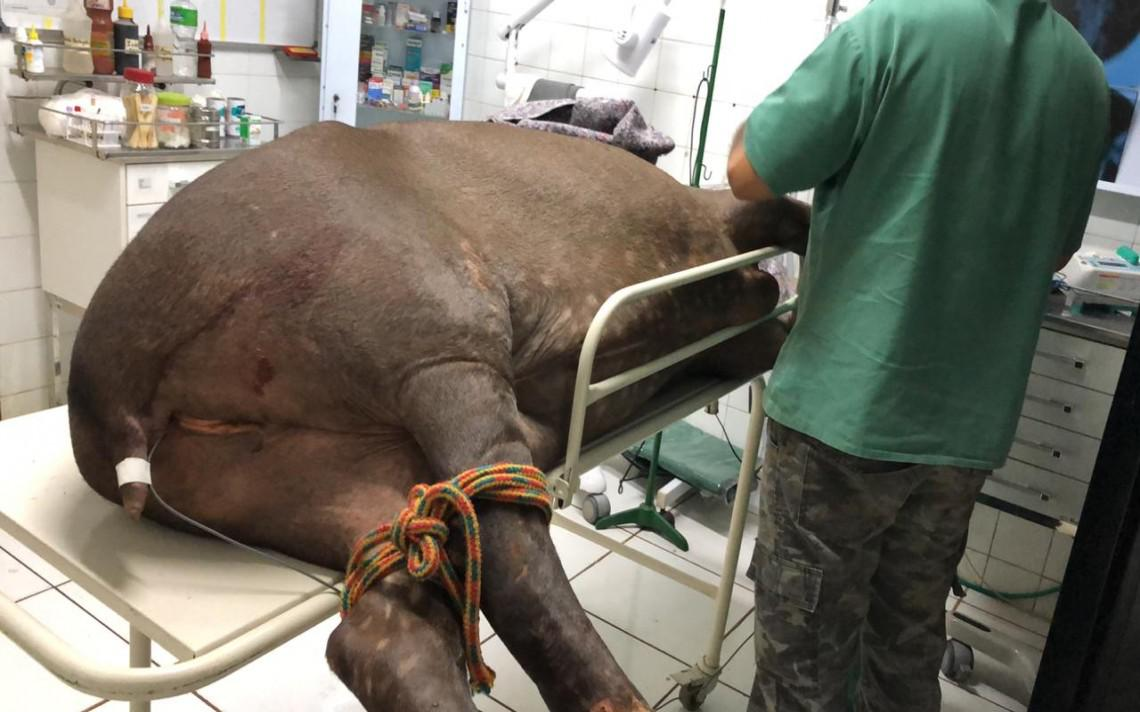Anta: (63, 105, 779, 660)
